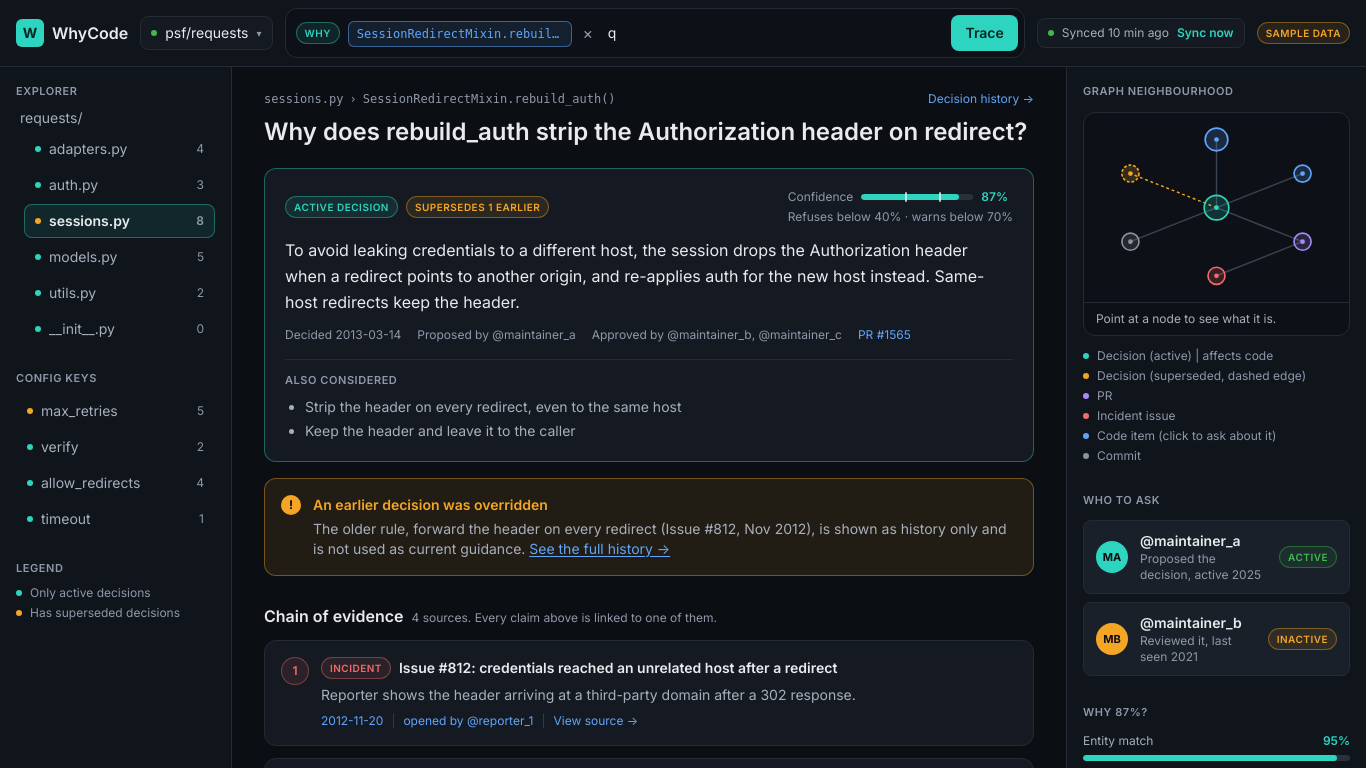
Test: Why Workspace › writes a message for the maintainer
This screenshot has width=1366, height=768.
Click the button "MA @maintainer_a Proposed the decision, active 2025 Active". click: click(1216, 557)
box: [1083,520,1350,594]
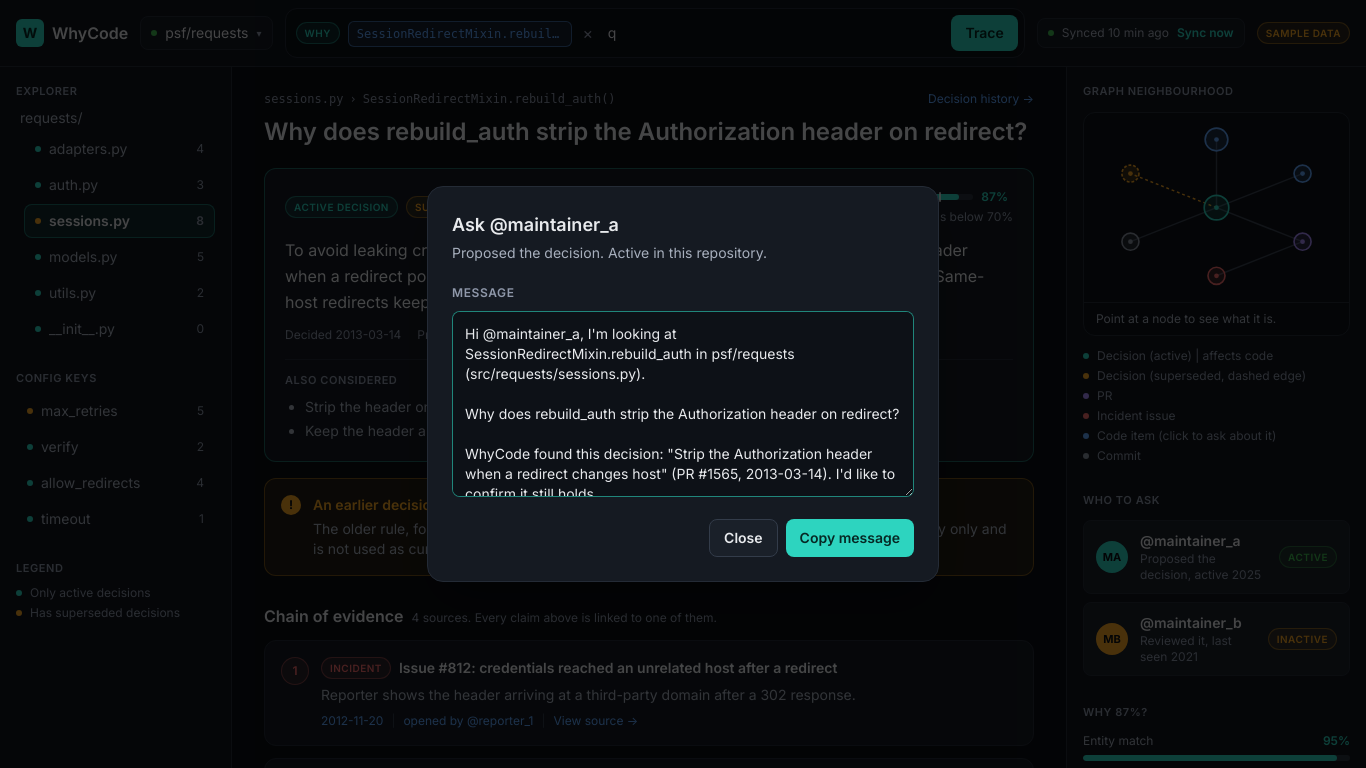
Click the button "Copy message". click: click(850, 538)
box: [786,519,914,557]
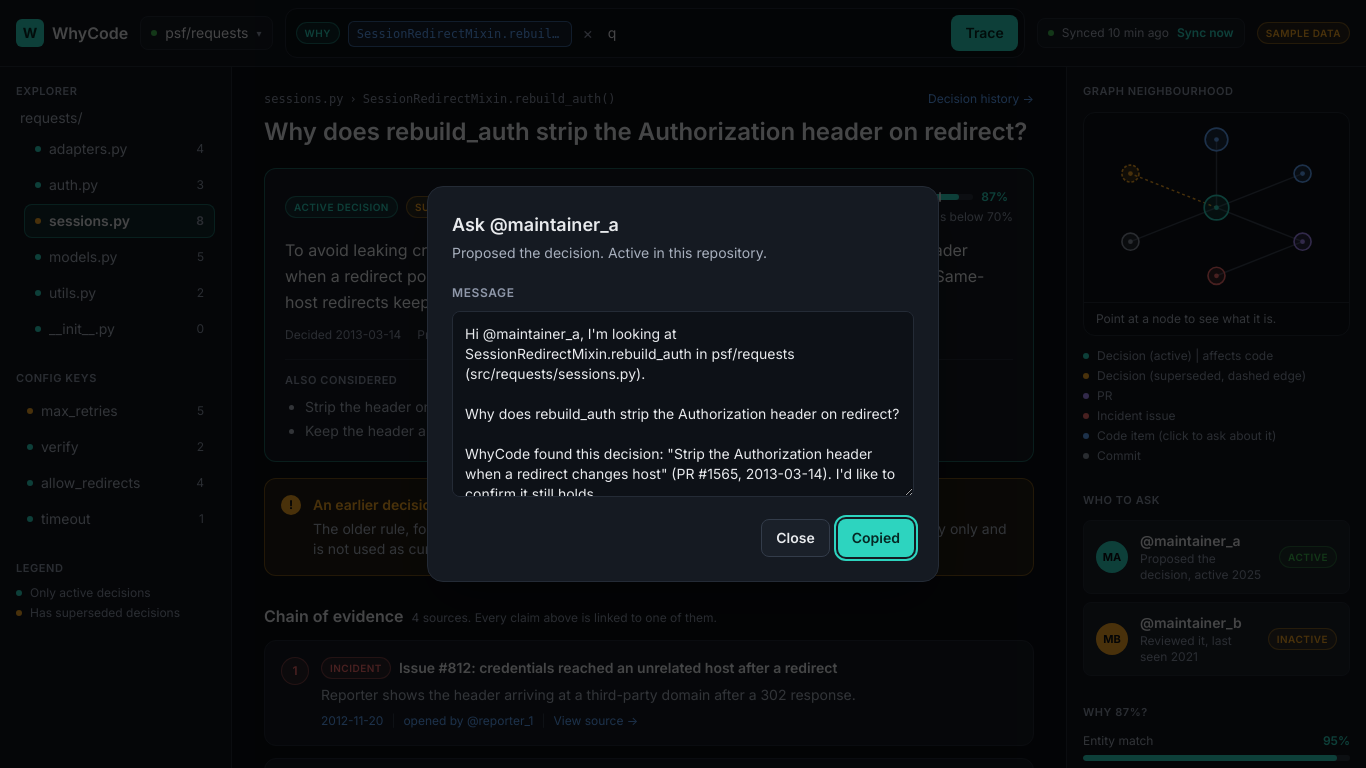
Now the button "Copied" is shown, box [838,519,914,557]
Press Escape
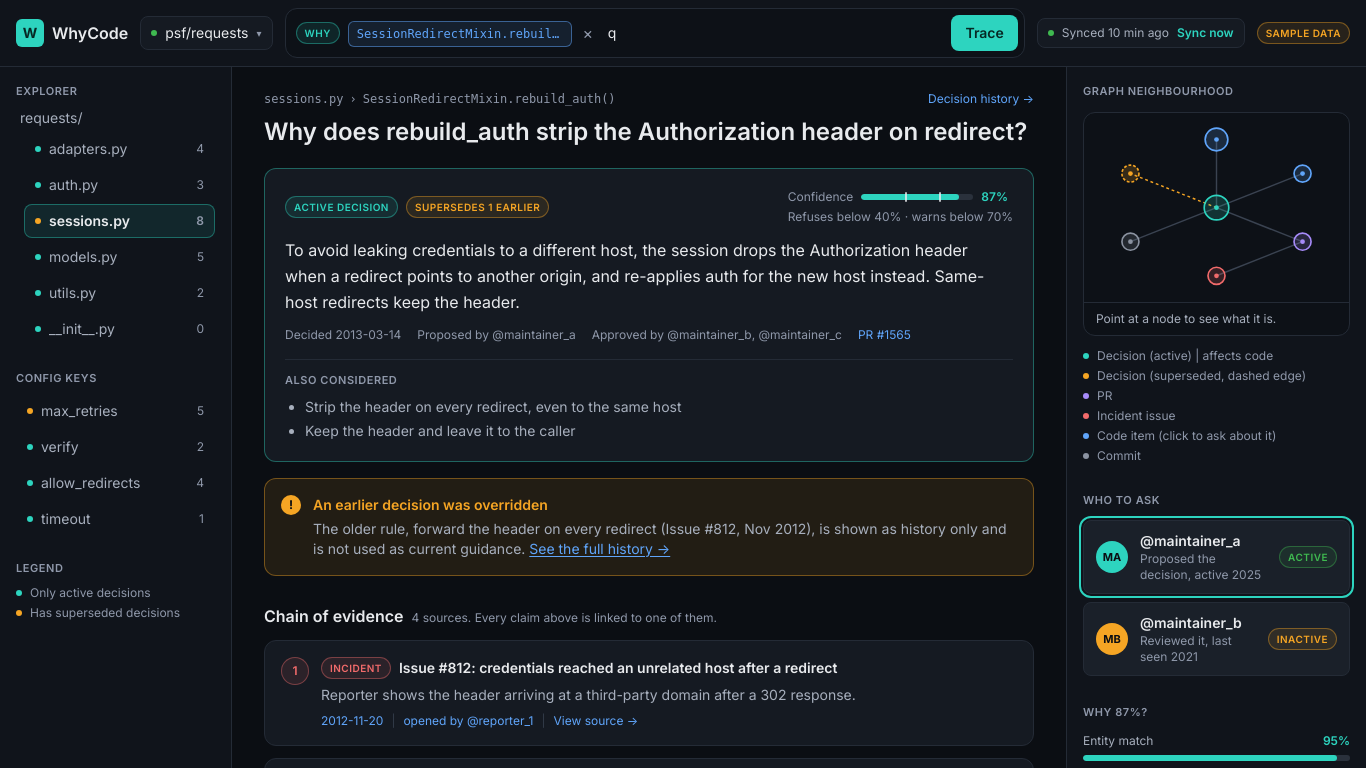
Now the dialog is gone
